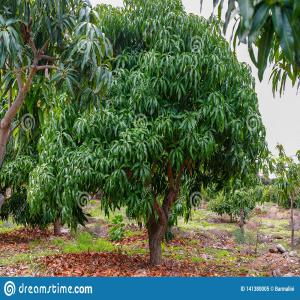Tree: (66, 1, 268, 265), (0, 5, 64, 238)
